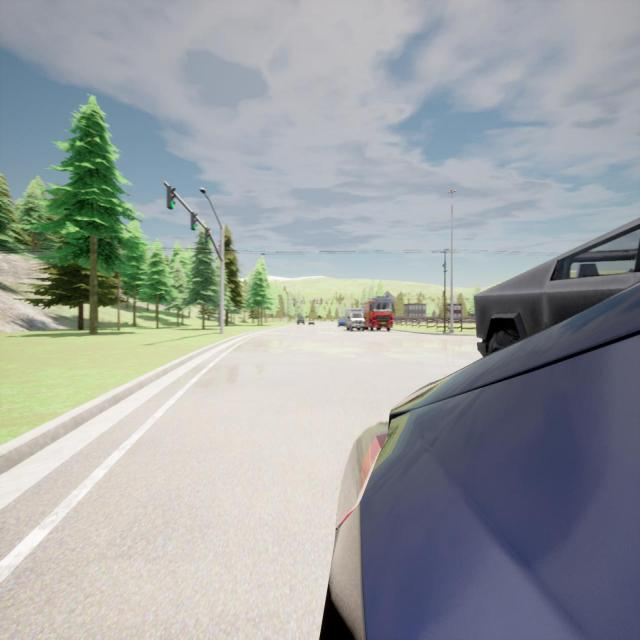Vehicle: (322, 285, 640, 638), (474, 218, 640, 357), (363, 298, 394, 330), (344, 308, 364, 332), (337, 317, 345, 328), (297, 316, 305, 325), (308, 318, 315, 325)
traffic_light: (167, 186, 175, 209), (191, 212, 197, 230), (205, 227, 211, 243)
